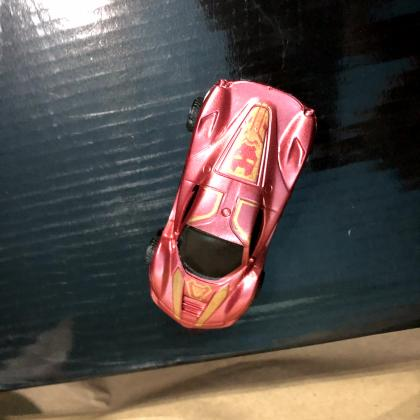Car: (142, 76, 319, 333)
